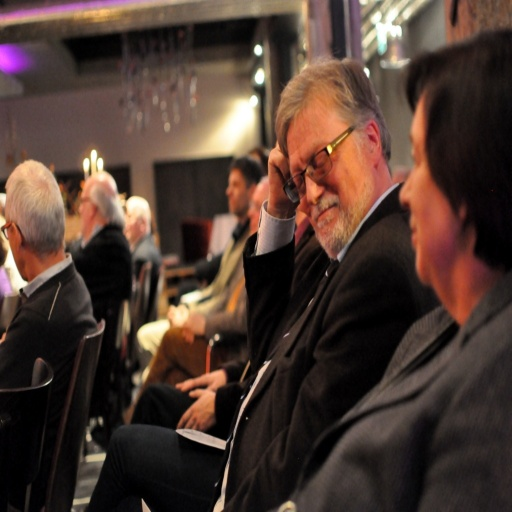hand: (179, 373, 222, 444), (267, 139, 303, 212), (174, 365, 226, 391), (179, 307, 207, 337), (178, 327, 194, 346)
